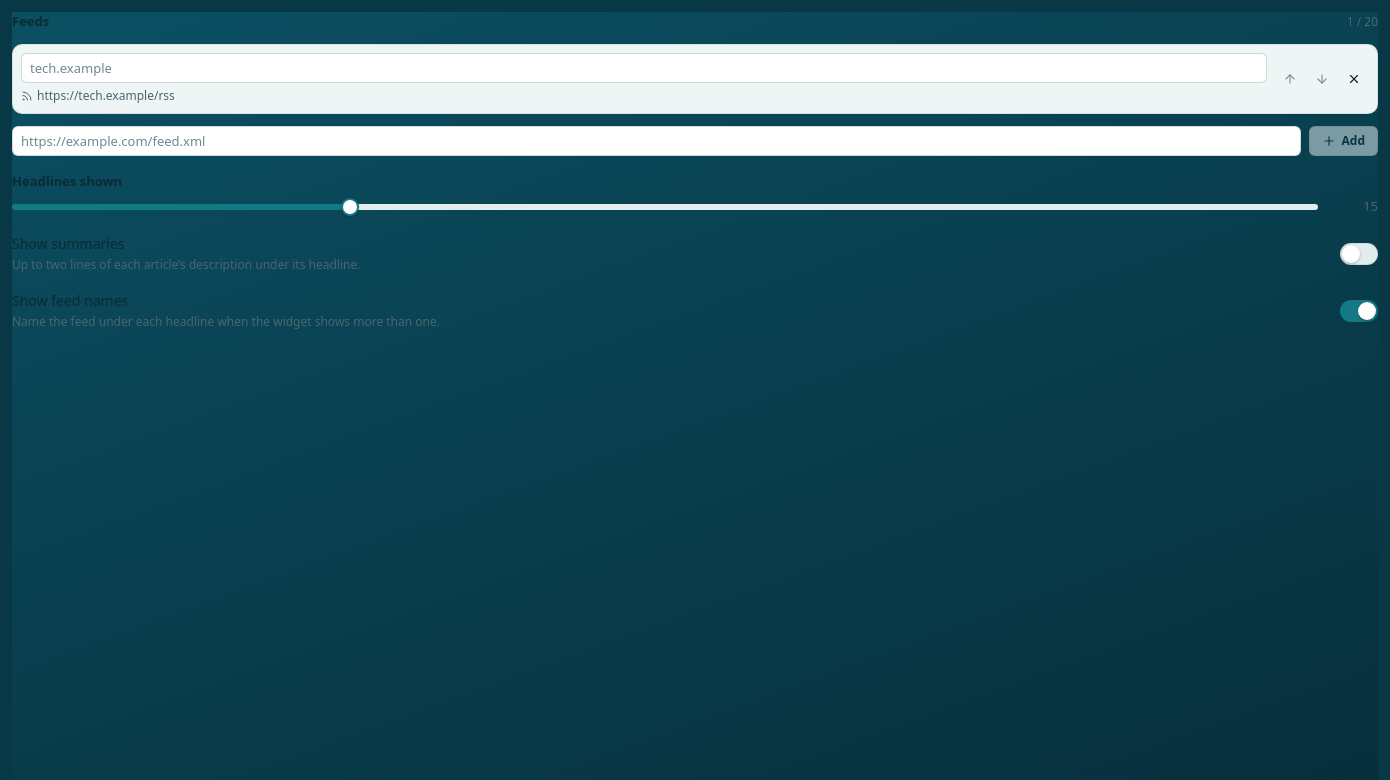
FeedsSettings › rejects non-web addresses and duplicates without a request
Step 1. Type "javascript:alert(1)" into the field with placeholder "https://example.com/feed.xml" → (656, 140), box 12,126 -> 1300,156
Then press Enter
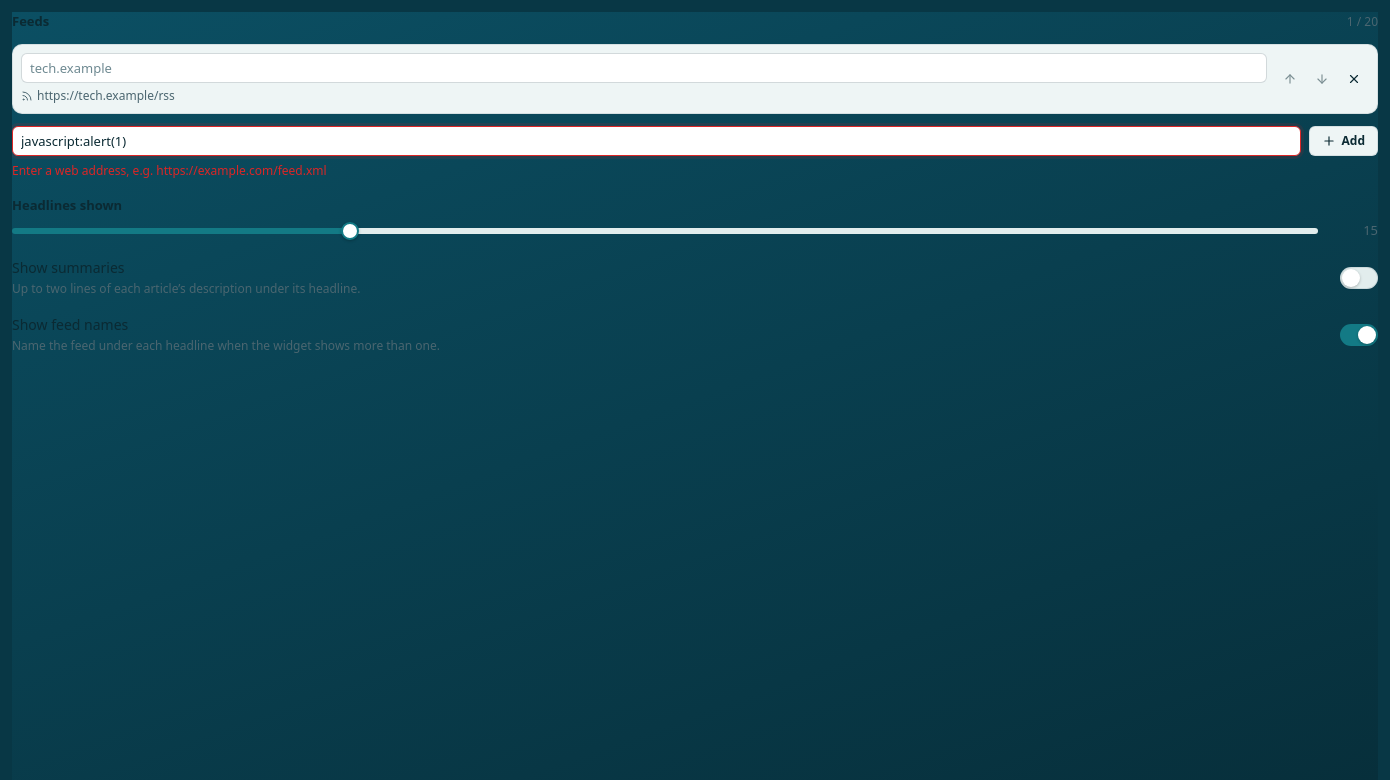
expect the text "Enter a web address, e.g. https://example.com/feed.xml" is shown: met, box 12,162 -> 327,178
Step 2. Replace the text in the field with placeholder "https://example.com/feed.xml" with "https://tech.example/rss" → (656, 140), box 12,126 -> 1300,156
Then press Enter
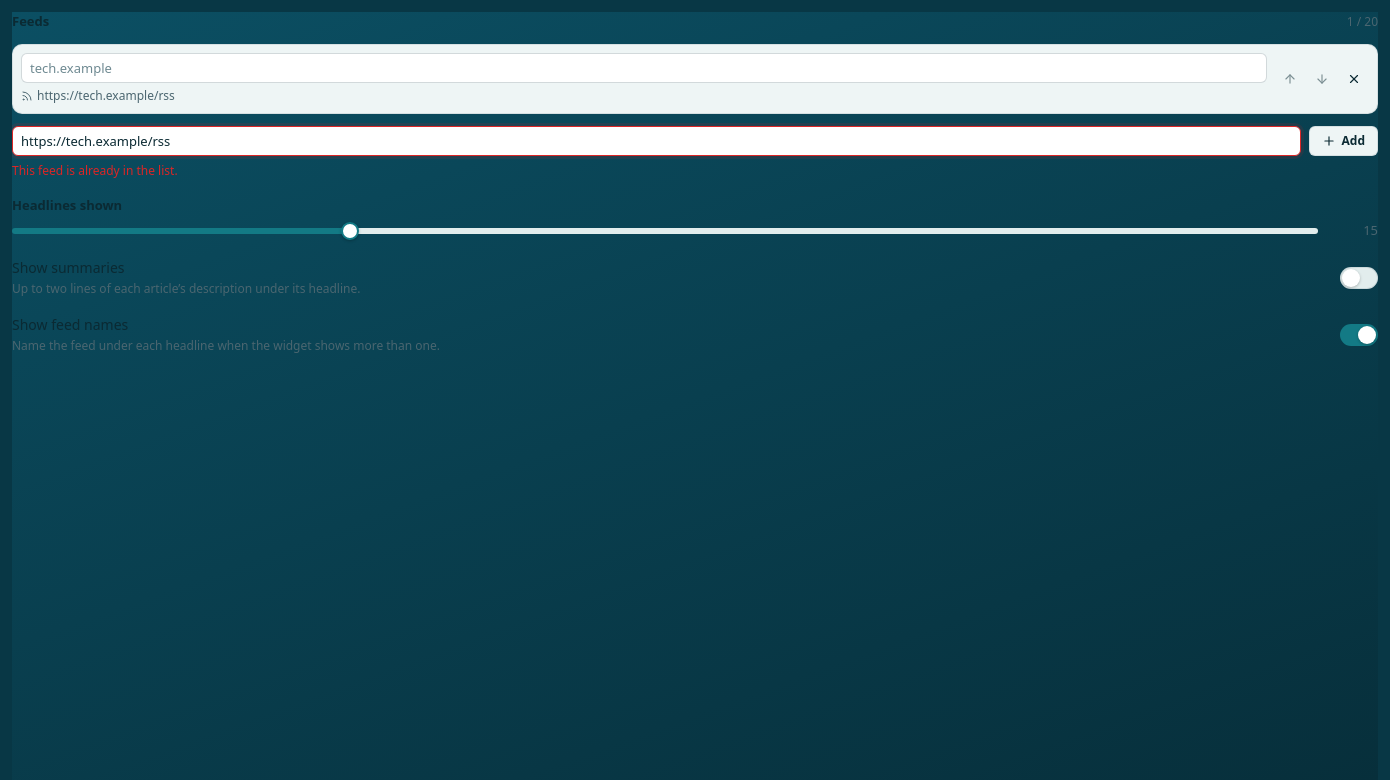
expect the text "This feed is already in the list." is shown: met, box 12,162 -> 178,178
